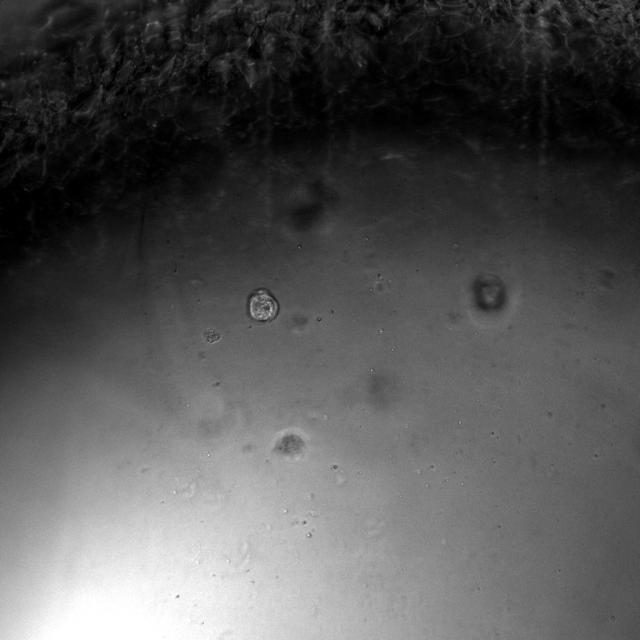organoid: (471, 273, 508, 314), (246, 287, 279, 323), (275, 433, 304, 457), (204, 329, 220, 343)
